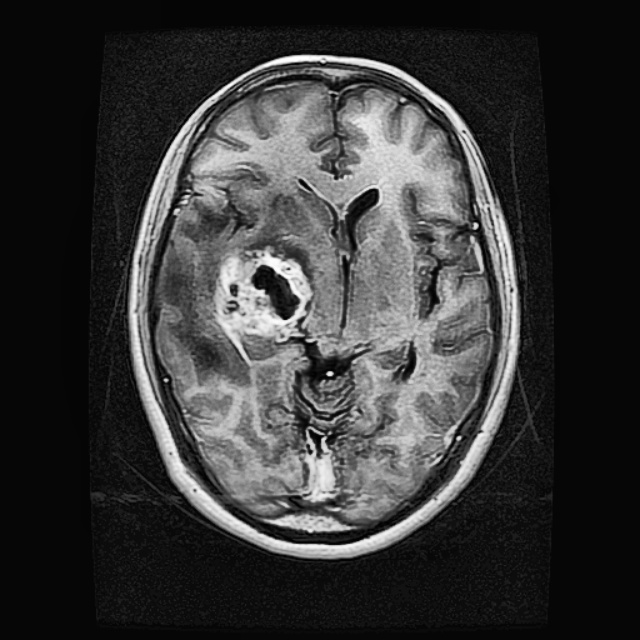Glioma: (210, 245, 318, 360)
